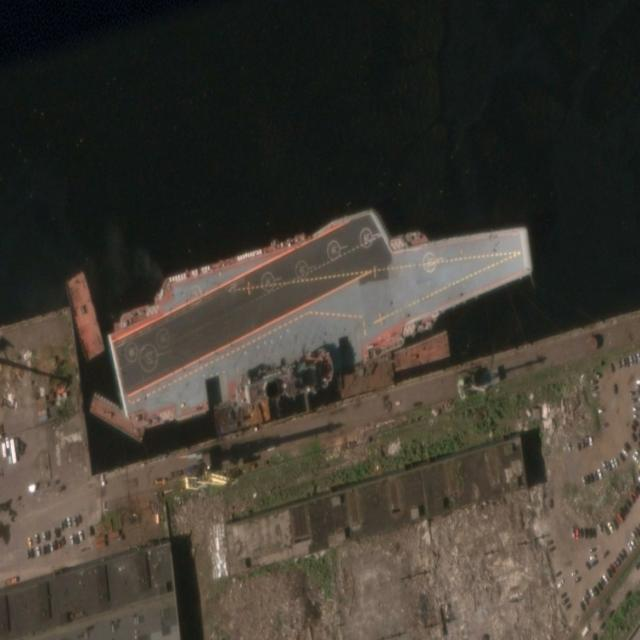Aircraft Carrier: (101, 157, 539, 443)
